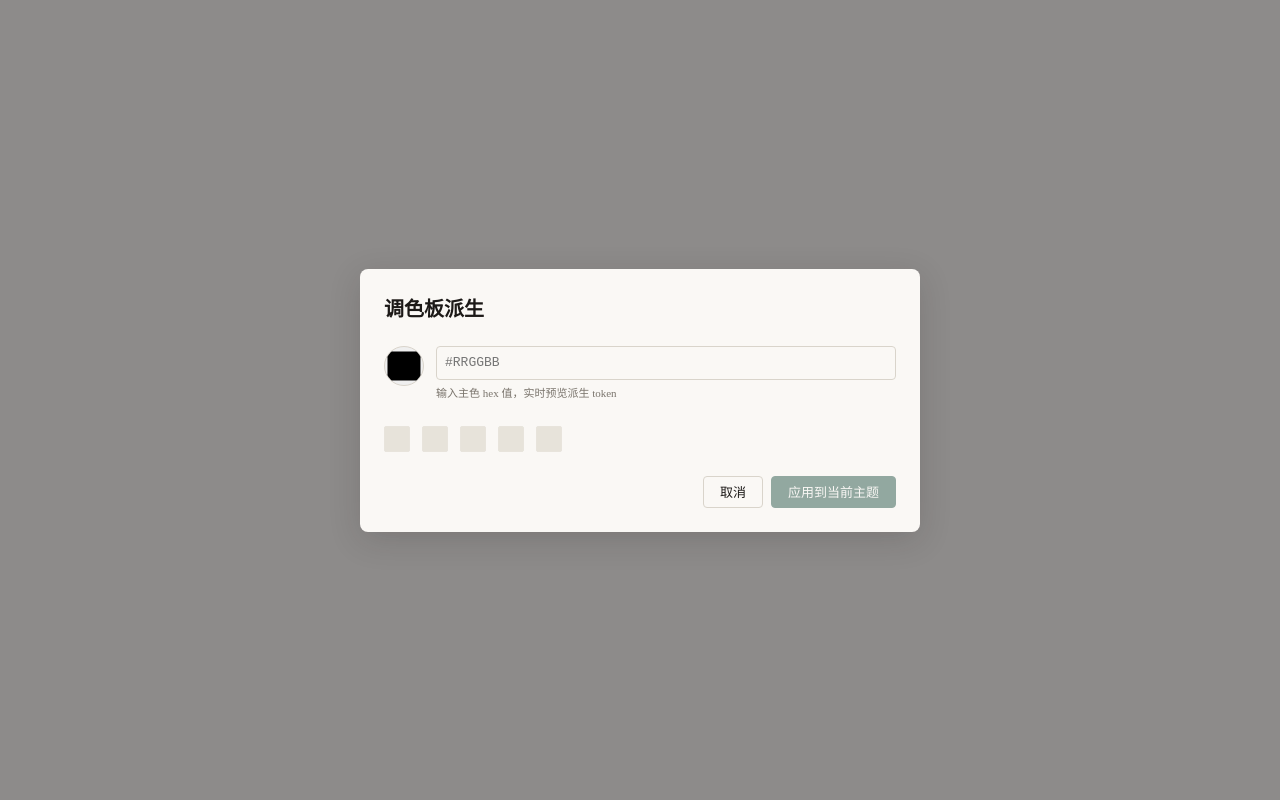
Test: AC-002: 合法 hex 输入 → debounce 300ms → 派生矩阵出现色块 › 输入合法 hex 后 300ms 内色块矩阵不更新，满 300ms 后出现真实派生 token 色值
Type "#2D5A4E" into the field with test id "derive-hex-input". click: (666, 362)
box: x1=436 y1=346 x2=896 y2=380
Wait 300 ms
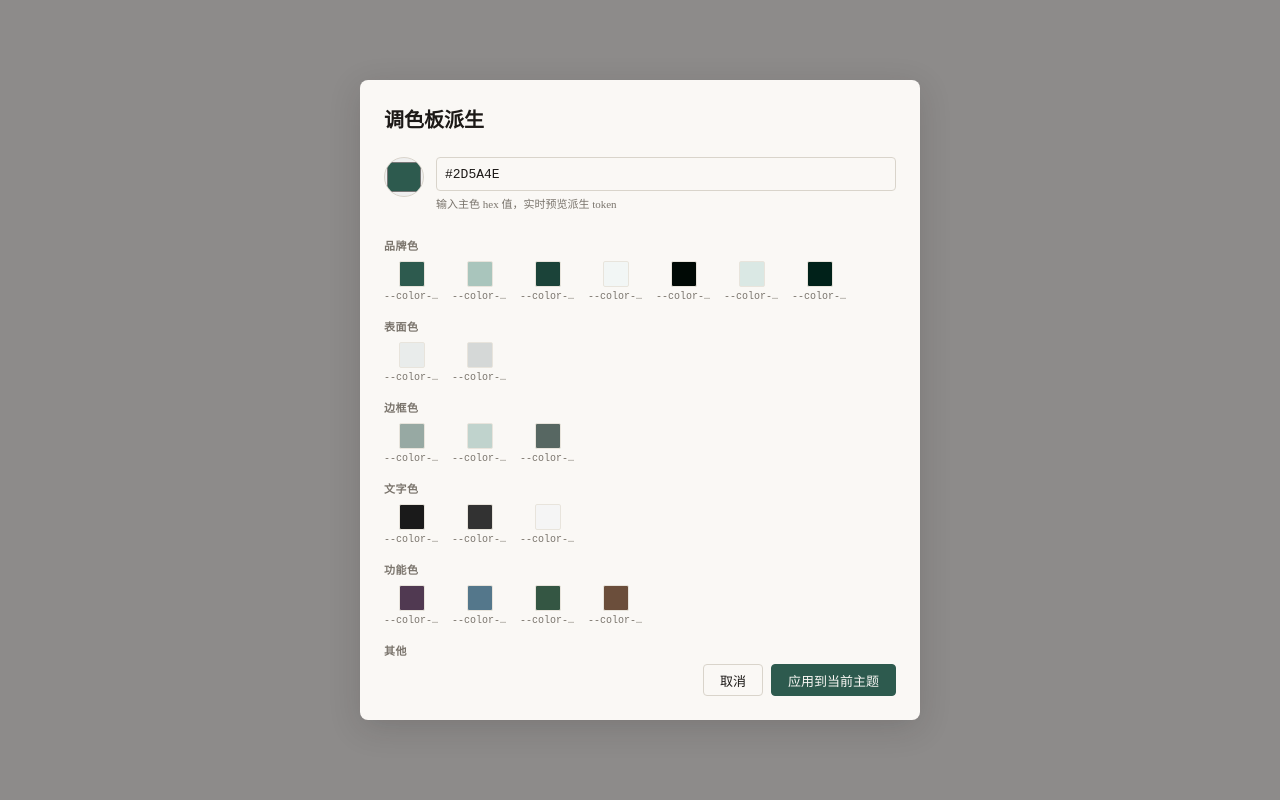
expect the element with test id "derive-token---color-brand" is shown: met, box x1=384 y1=261 x2=440 y2=302
expect the button with test id "derive-apply-btn" is enabled: met, box x1=771 y1=664 x2=896 y2=696
